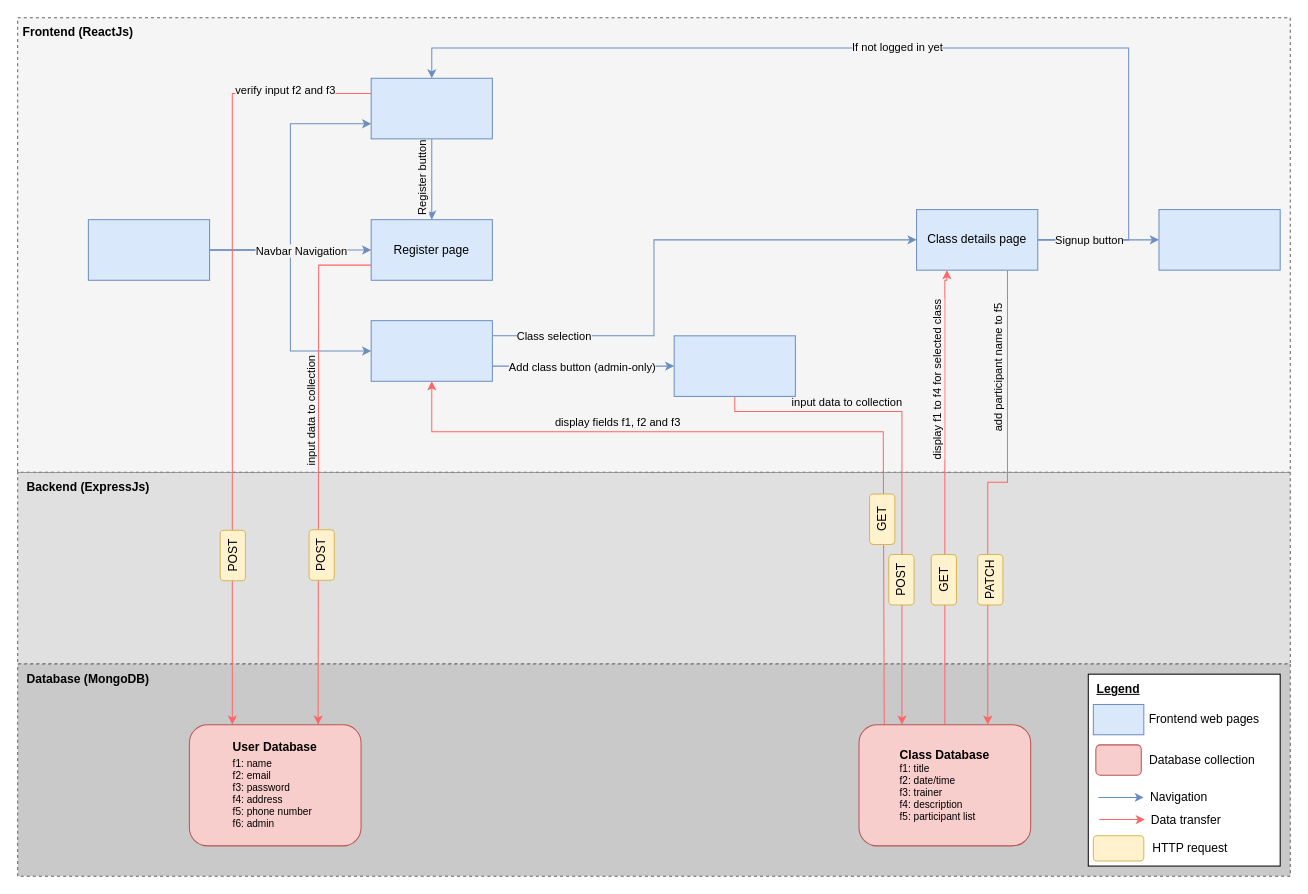
Some shapes in this 1308 by 894 pixel diagram are drawn without their labels. Here are the shapes that lost their labels. From the top down, the centre of each, then its label:
(431,108): Login page
(148,249): Homepage
(1219,239): Confirmation page
(431,350): Calendar page
(734,365): Add class form page
